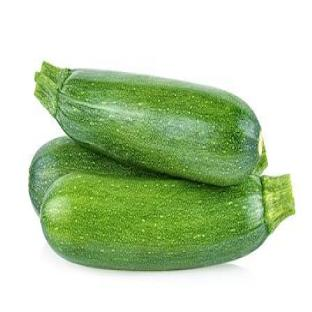Zucchini: (35, 63, 266, 185), (41, 173, 294, 269), (29, 137, 157, 213)
